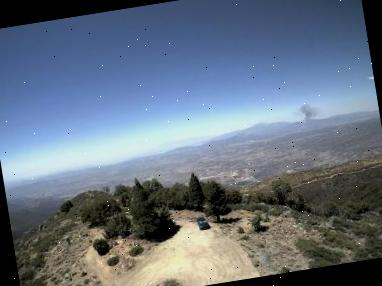smoke: (290, 98, 322, 133)
